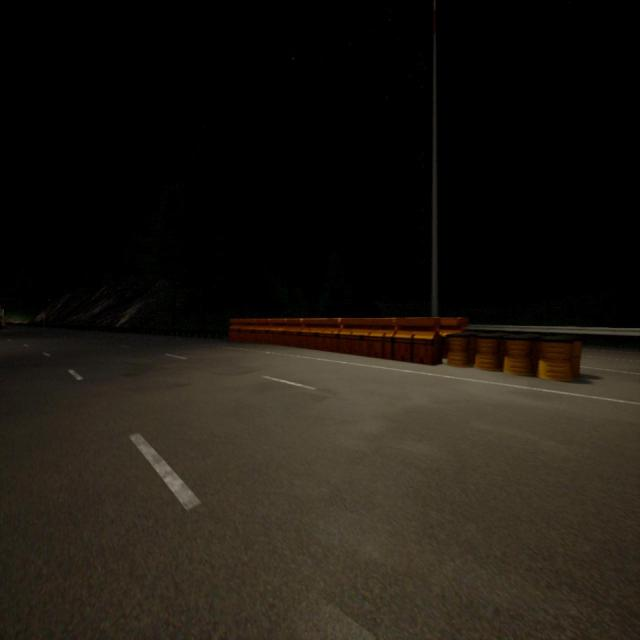Traffic_Signs: (41, 313, 46, 319)
